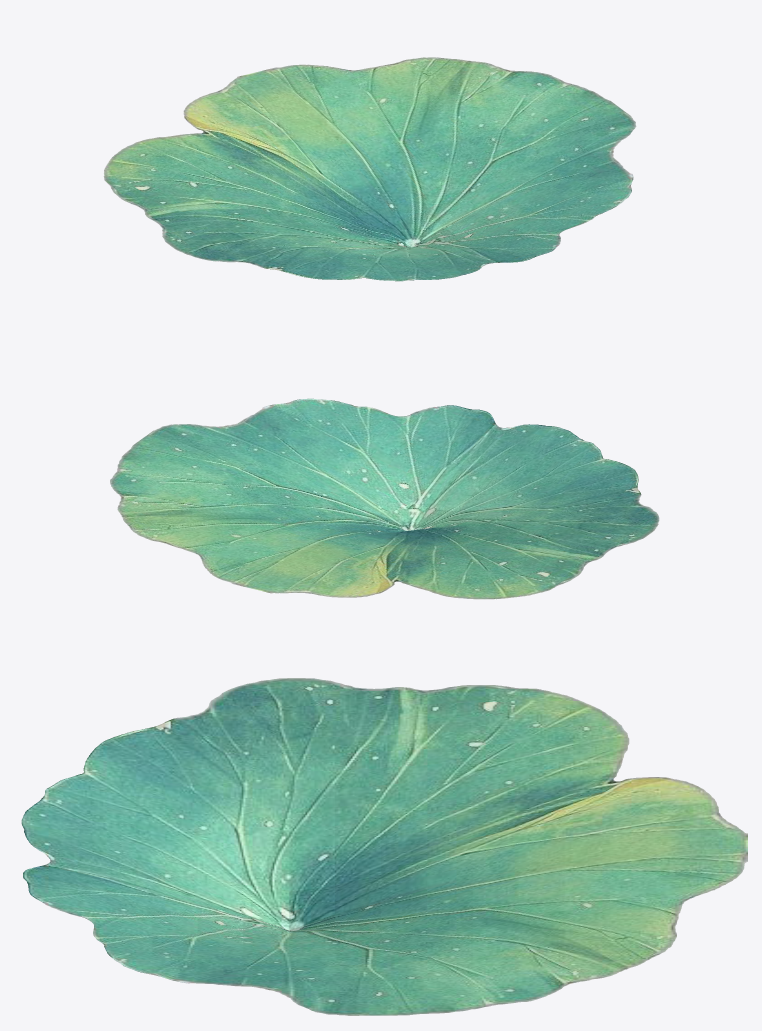
Rendered from nenuphare.fbx.
3 views of the same model, one above another, from view 1: azimuth 30°, elevation 25°; view 2: azimuth 150°, elevation 25°; view 3: azimuth 270°, elevation 25° (orthographic). The views are drawn at different scales.
Parts seen in each view (by area): view 1: nenuphare; view 2: nenuphare; view 3: nenuphare.
Boxes of the visible parts, left/top/right/bottom form: nenuphare: left=103, top=57, right=636, bottom=281; nenuphare: left=110, top=398, right=659, bottom=599; nenuphare: left=21, top=678, right=747, bottom=1015.
Size of the model in its own units: 109 by 12.71 by 100.
